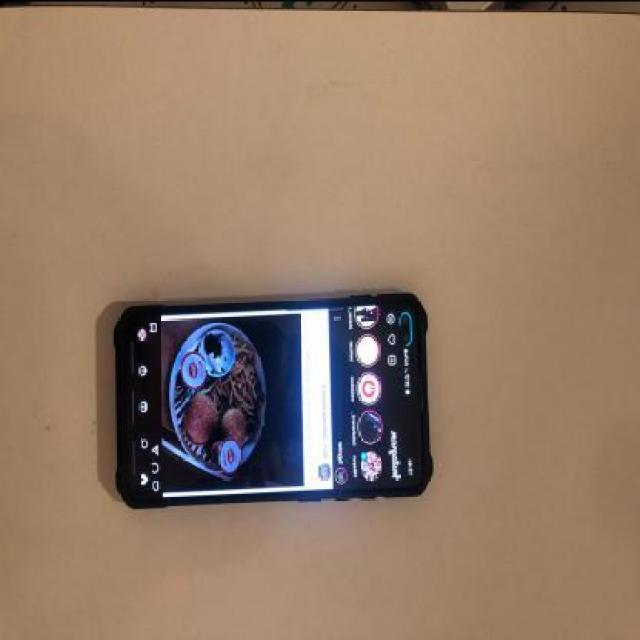phone: (110, 288, 436, 504)
